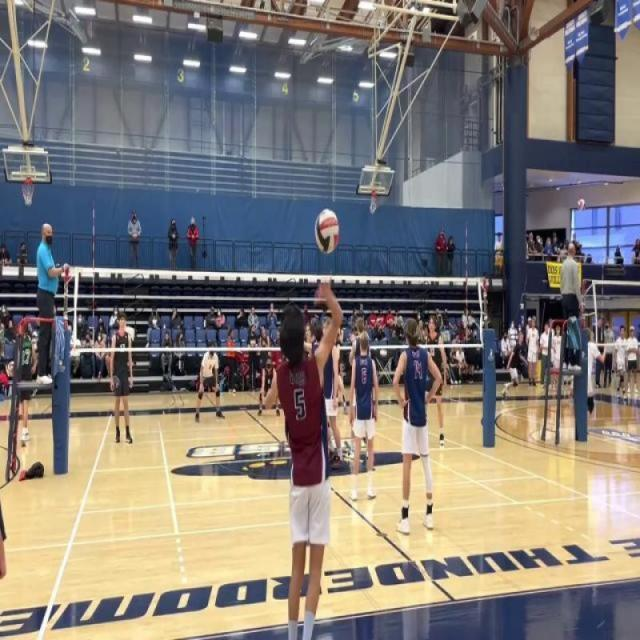volleyball: (313, 206, 341, 257), (577, 198, 586, 212), (8, 361, 14, 374)
